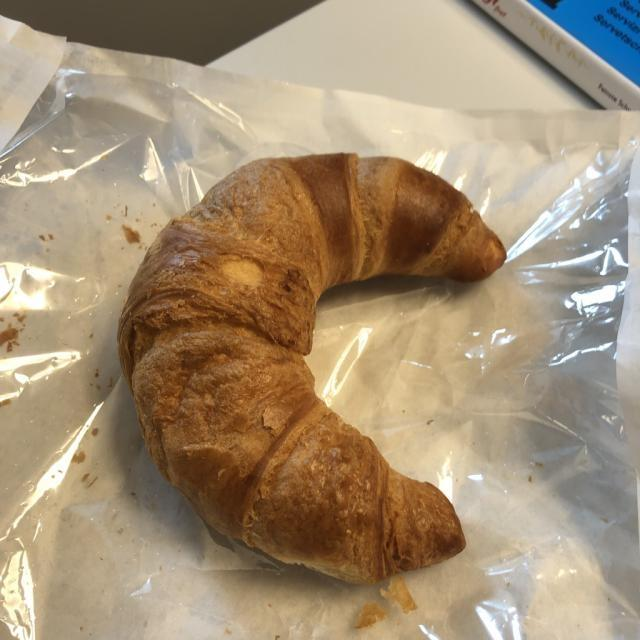croissant: (123, 157, 495, 579)
